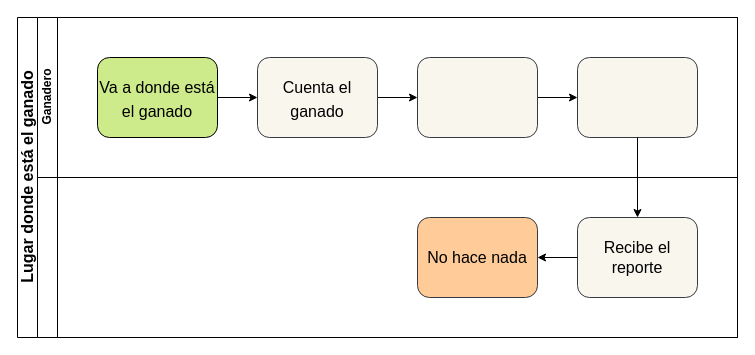
Some shapes in this 755 by 355 pixel diagram are drawn without their labels. The shapes that lost their labels are listed below. From the top down, each one's box as (x1, y1, x2, y2) in pixels, then its label:
(416, 56, 538, 138): Descubre que hace falta ganado
(576, 56, 698, 138): Reporta el ganado faltante a la policía
(36, 176, 738, 338): Policía
